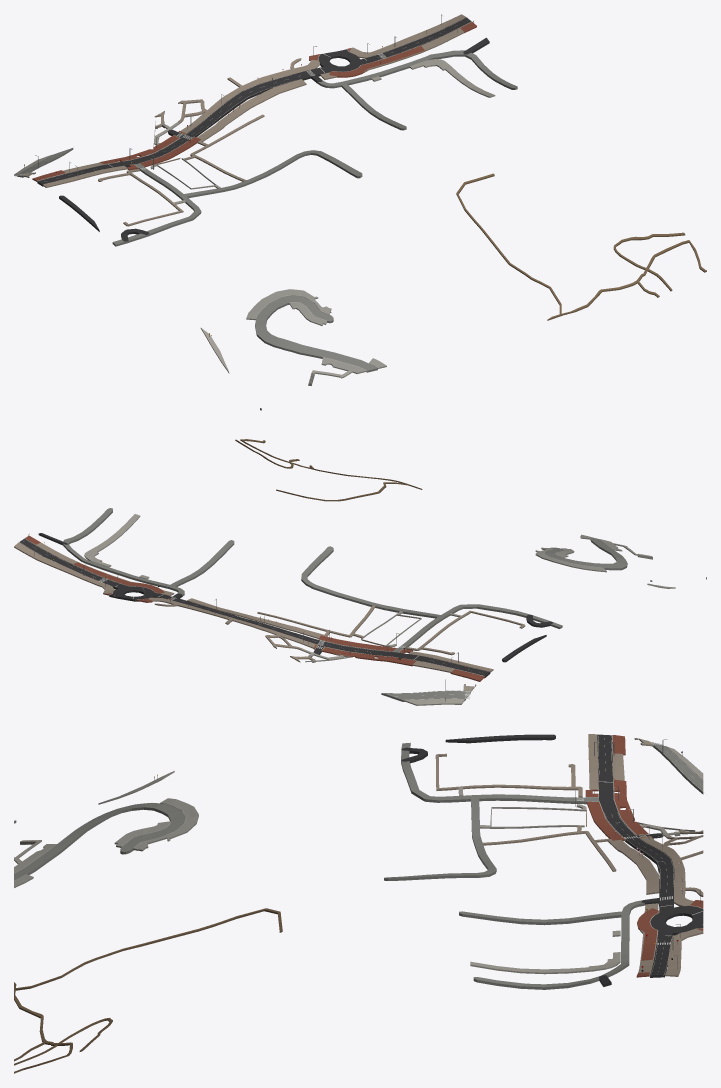
The model's file is 17-109448-59482.3b396ecf.glb.
The picture shows the model from 3 angles, top to bottom: view 1: azimuth 30°, elevation 25°; view 2: azimuth 150°, elevation 25°; view 3: azimuth 270°, elevation 25°; orthographic projection. The views are drawn at different scales.
Size of the model in its own units: 298 by 68.8 by 293.
